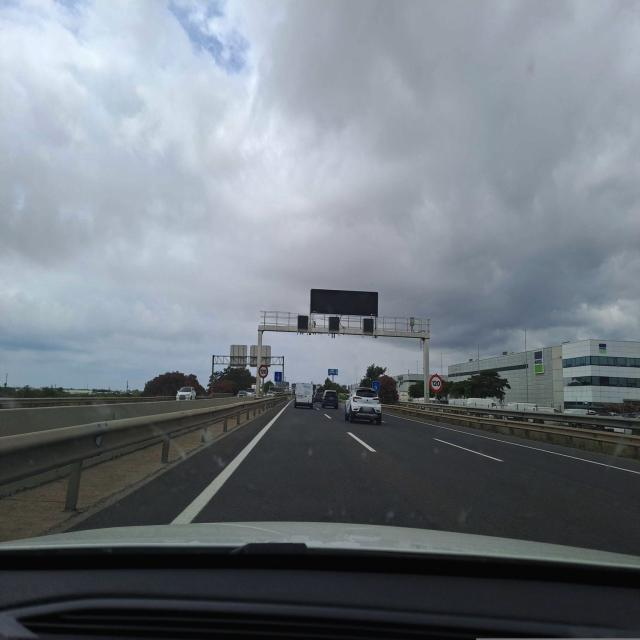car: (344, 386, 383, 425), (321, 390, 339, 409), (175, 386, 197, 400)
